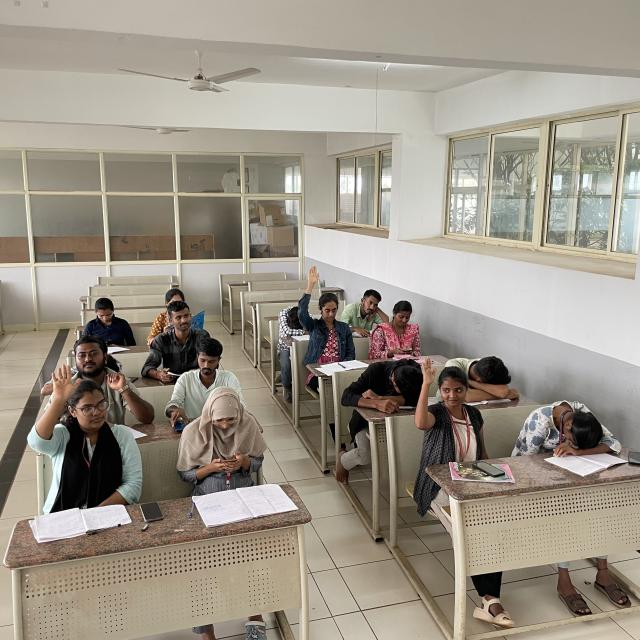Hand Rising: (21, 362, 139, 498), (408, 354, 484, 468), (293, 260, 353, 362)
Sleeping: (508, 394, 623, 468), (338, 350, 427, 413), (452, 349, 526, 404)
Using Phone: (179, 382, 272, 486), (367, 300, 426, 360)
